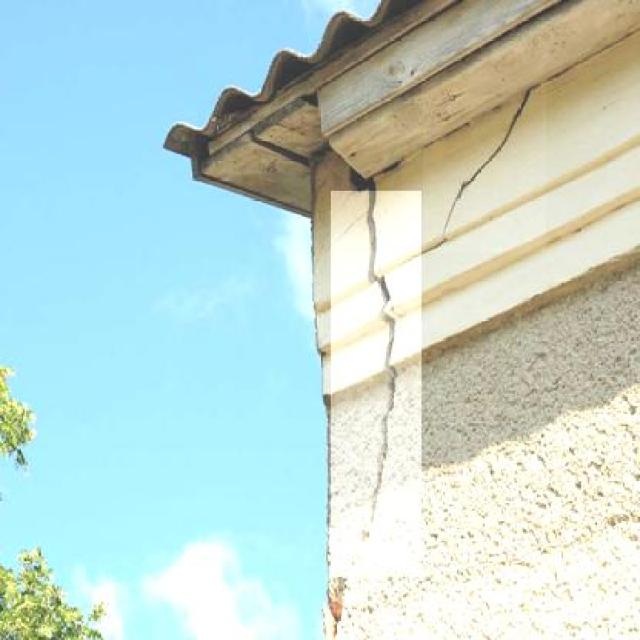Crack: (330, 191, 423, 571), (438, 80, 546, 248), (548, 24, 640, 84)
